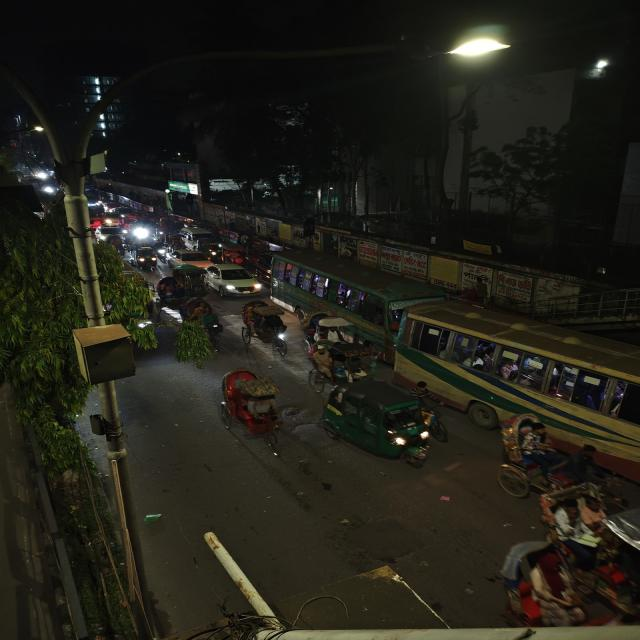bus: (394, 299, 640, 447), (269, 250, 445, 341)
car: (202, 262, 262, 298), (167, 250, 214, 270)
cng: (322, 377, 439, 461), (134, 245, 159, 270), (198, 239, 224, 258)
rickshaw: (496, 411, 608, 509), (214, 366, 291, 456), (302, 311, 378, 385), (237, 298, 294, 358), (154, 275, 201, 315), (219, 242, 250, 264)
